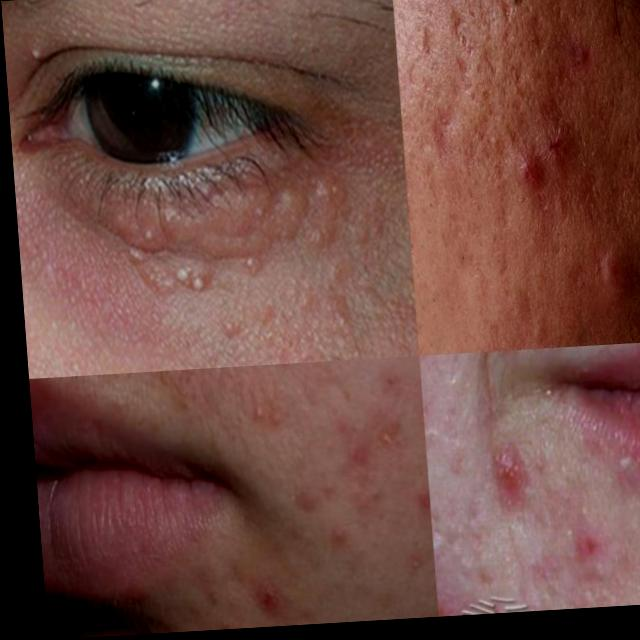7: (163, 263, 227, 310), (113, 233, 159, 263)
8: (514, 84, 603, 194), (461, 444, 532, 537), (559, 521, 617, 563), (397, 486, 422, 527), (426, 598, 461, 621)
blackheads: (292, 185, 372, 260), (234, 186, 307, 246), (141, 197, 215, 243), (442, 10, 480, 91), (423, 109, 461, 175), (515, 12, 557, 68), (409, 23, 442, 78)
pustules: (588, 243, 634, 315), (502, 150, 537, 215)
